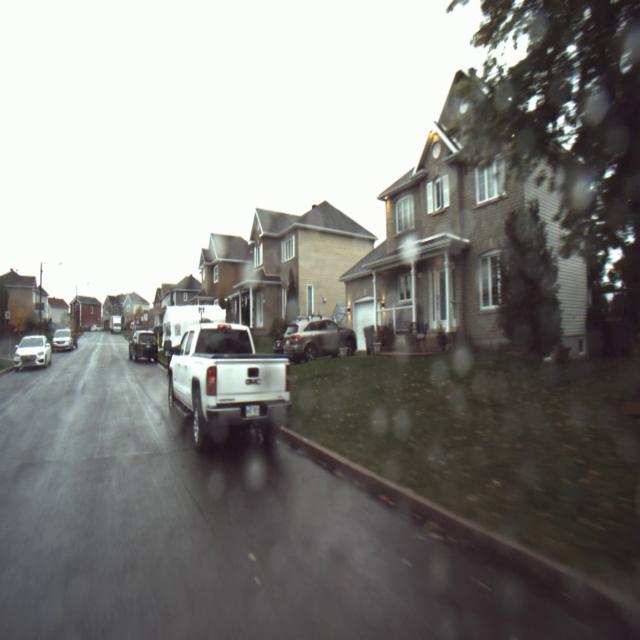car: (158, 306, 287, 465)
